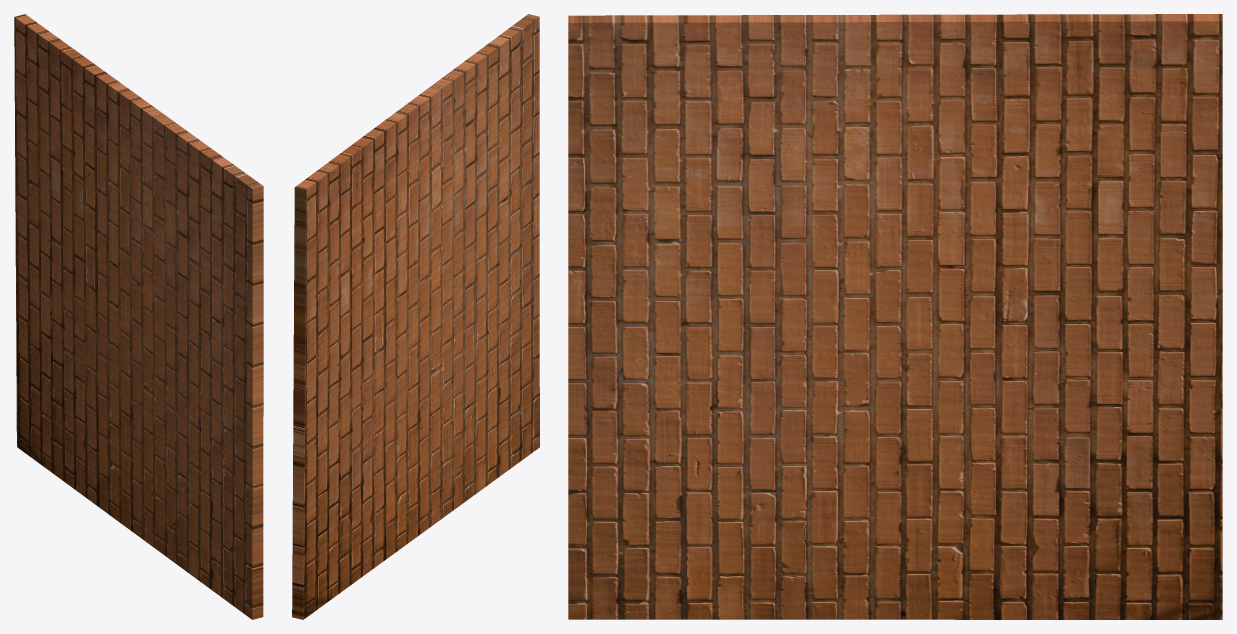
File: wall.fbx
3 renders of one model, left to right at view 1: azimuth 30°, elevation 25°; view 2: azimuth 150°, elevation 25°; view 3: azimuth 270°, elevation 25°, orthographic. The views are drawn at different scales.
Parts seen in each view (by area): view 1: brick-wall-png; view 2: brick-wall-png; view 3: brick-wall-png.
Part boxes in pixels (x1=…): brick-wall-png: x1=14, y1=14, x2=263, y2=619; brick-wall-png: x1=292, y1=14, x2=539, y2=619; brick-wall-png: x1=568, y1=14, x2=1222, y2=619.
Size of the model in its own units: 10.03 by 302 by 300.
1 material, 1 textured.
